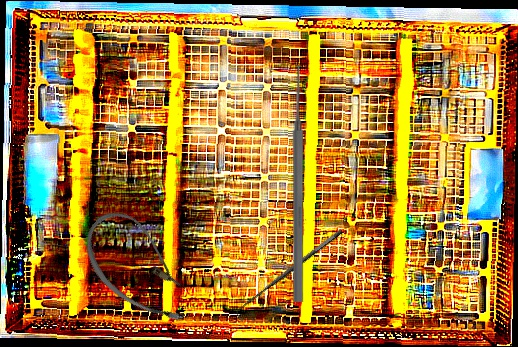Cannula: (68, 200, 213, 336)
Hook Surgical: (230, 227, 350, 324)
Pusher: (291, 65, 306, 302)
